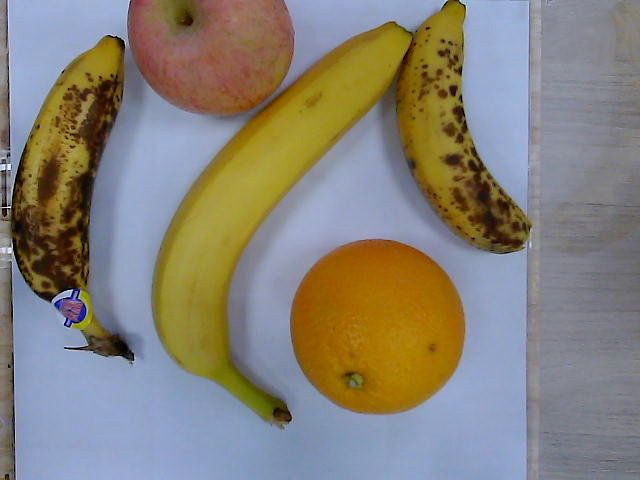fresh_apple: (128, 1, 294, 116)
fresh_banana: (151, 25, 410, 430)
fresh_orange: (290, 240, 468, 415)
rotten_banana: (12, 36, 137, 363), (395, 1, 536, 254)
